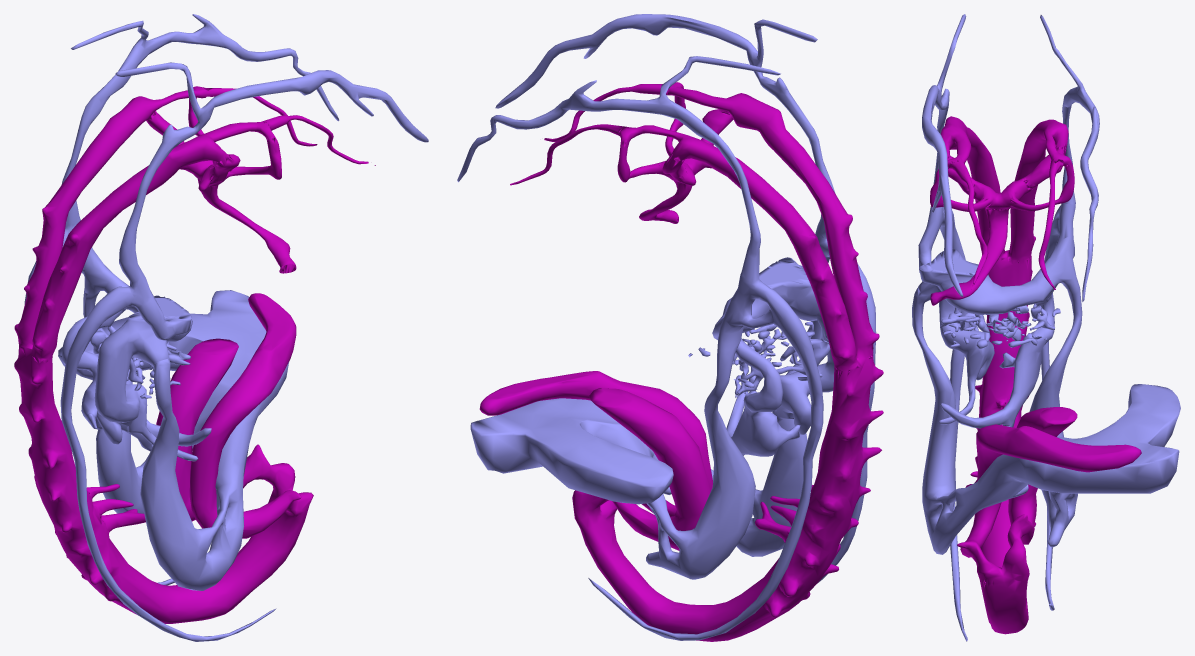
File: Veins_Puzzle.fbx
The picture shows the model from 3 angles, left to right: view 1: azimuth 30°, elevation 25°; view 2: azimuth 150°, elevation 25°; view 3: azimuth 270°, elevation 25°; orthographic projection. The views are drawn at different scales.
Parts seen in each view (by area): view 1: Veins; view 2: Veins; view 3: Veins.
Boxes of the visible parts, x1,y1,x2,y2 form: Veins: (14, 14, 428, 641); Veins: (457, 14, 883, 641); Veins: (912, 14, 1180, 641).
Size of the model in its own units: 23.19 by 34.09 by 14.65.
